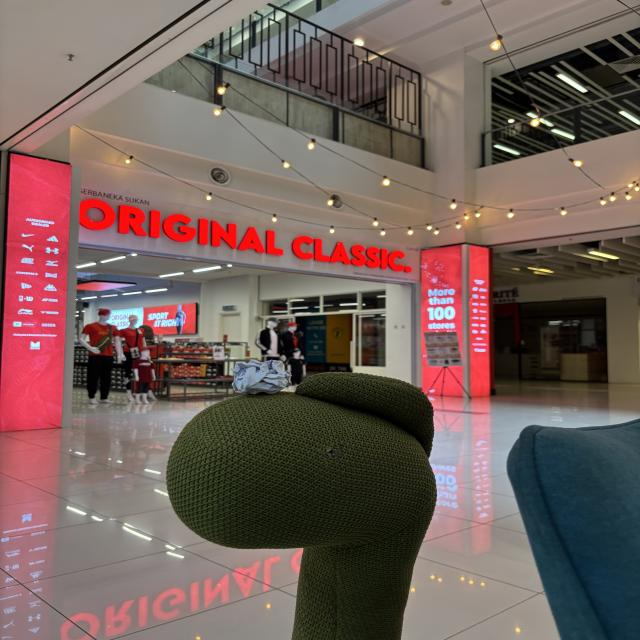crumpled_paper: (230, 357, 293, 397)
